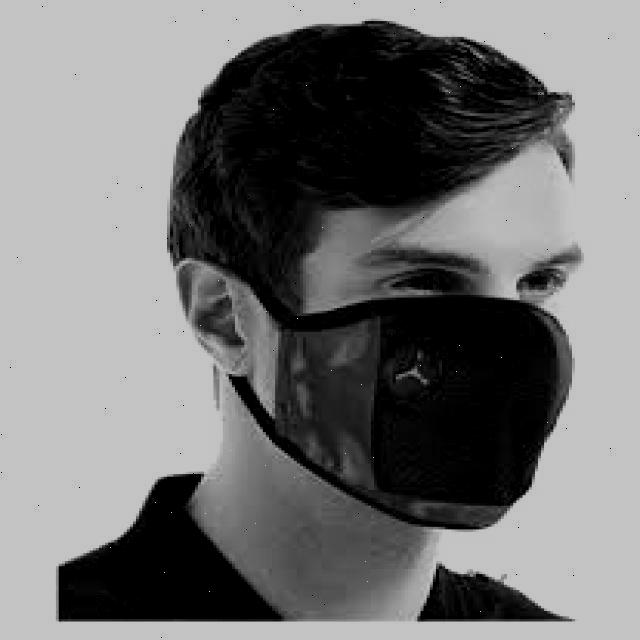fake: (267, 293, 582, 536)
real: (305, 143, 585, 535)
